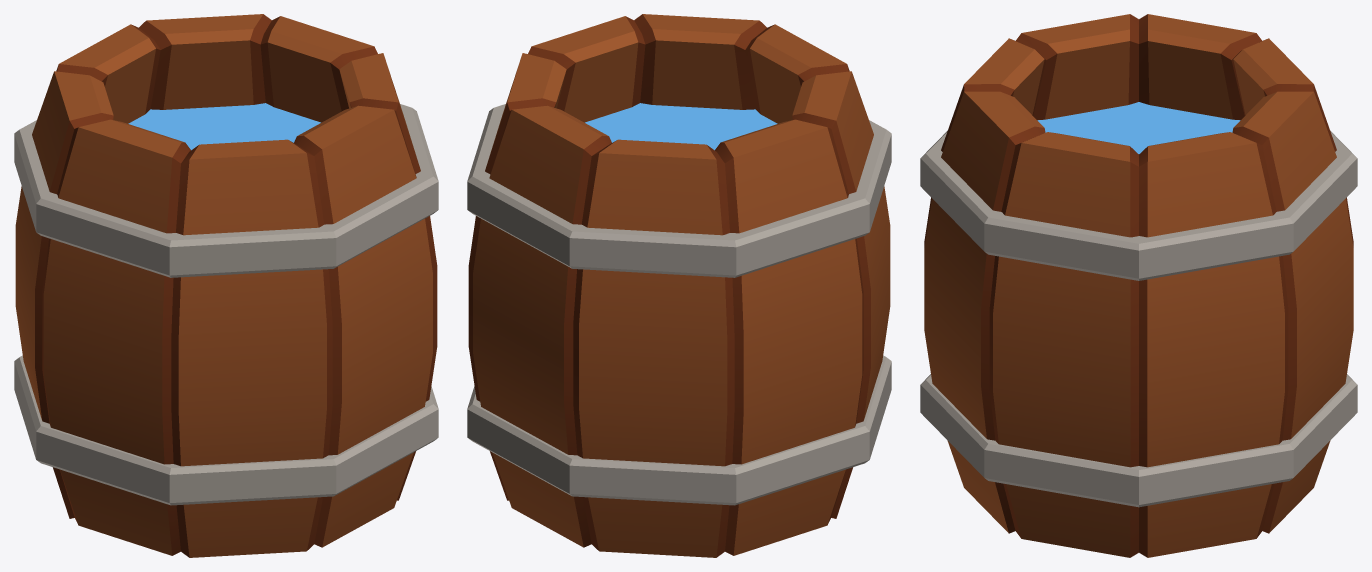
Rendered from m_dec_dung_barrelOpen.fbx.
3 views of the same model, side by side, from view 1: azimuth 30°, elevation 25°; view 2: azimuth 150°, elevation 25°; view 3: azimuth 270°, elevation 25° (orthographic).
Parts seen in each view (by area): view 1: m_dec_dung_barrelOpen; view 2: m_dec_dung_barrelOpen; view 3: m_dec_dung_barrelOpen.
Boxes of the visible parts, x1,y1,x2,y2 form: m_dec_dung_barrelOpen: [14, 14, 438, 557]; m_dec_dung_barrelOpen: [467, 14, 891, 557]; m_dec_dung_barrelOpen: [920, 14, 1357, 557].
Size of the model in its own units: 2 by 2 by 2.
